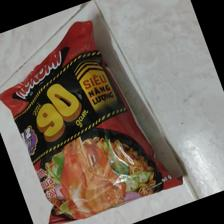Kokomi: (1, 20, 182, 224)
